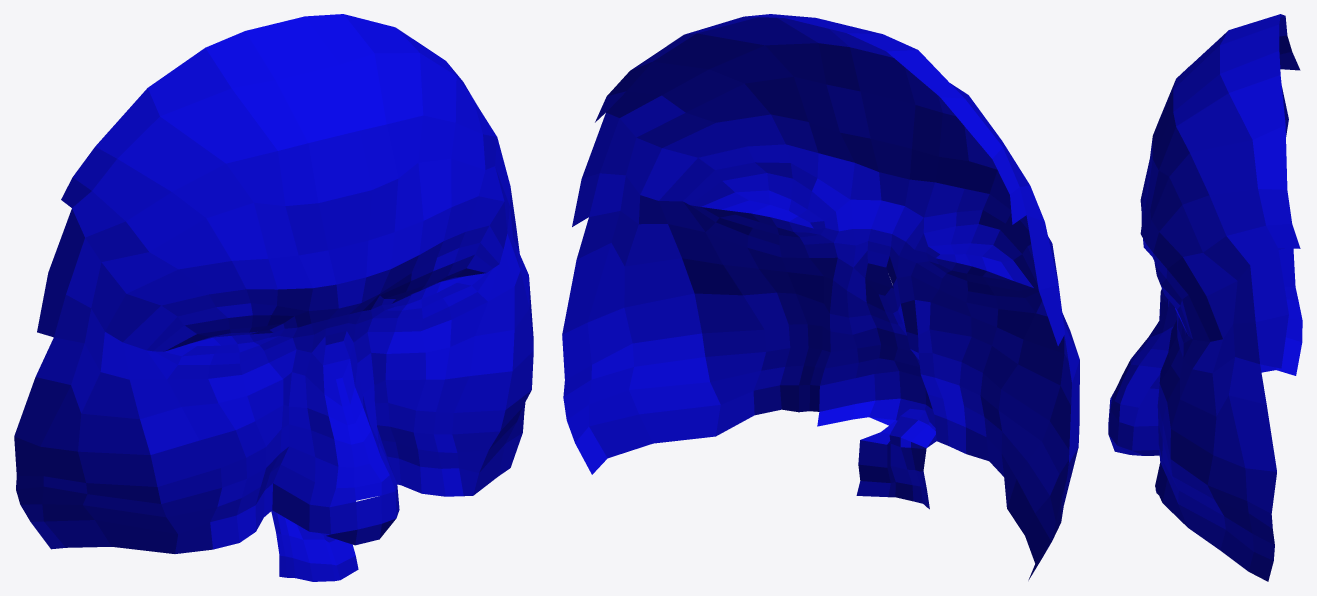
3 renders of one model, left to right at view 1: azimuth 30°, elevation 25°; view 2: azimuth 150°, elevation 25°; view 3: azimuth 270°, elevation 25°, orthographic. The views are drawn at different scales.
Visible parts, largest first — view 1: pPlane5; view 2: pPlane5; view 3: pPlane5.
Part boxes in pixels (<box>): pPlane5: <box>14,14,533,581</box>; pPlane5: <box>562,14,1079,580</box>; pPlane5: <box>1108,14,1302,581</box>.
Bounding box in the file's own units: 1.66 × 1.6 × 0.6181.
